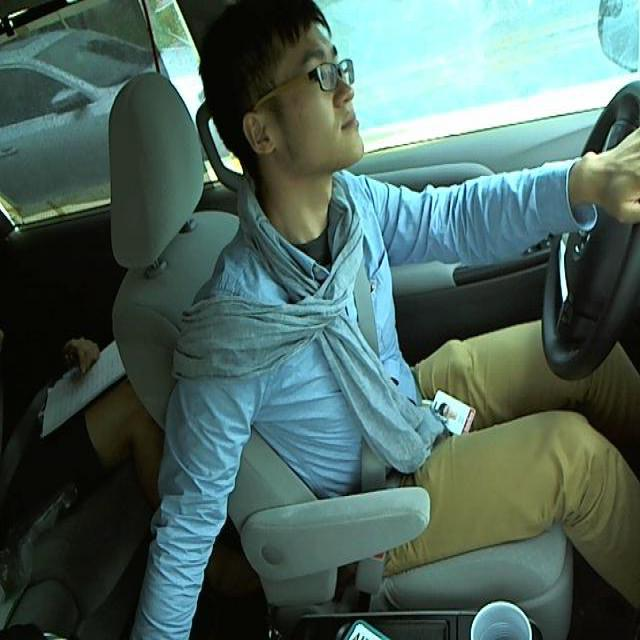seatbelt: (350, 264, 398, 496)
